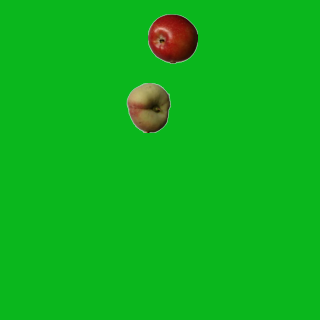Apple Braeburn: (147, 13, 197, 63)
Peach Flat: (123, 82, 173, 132)
